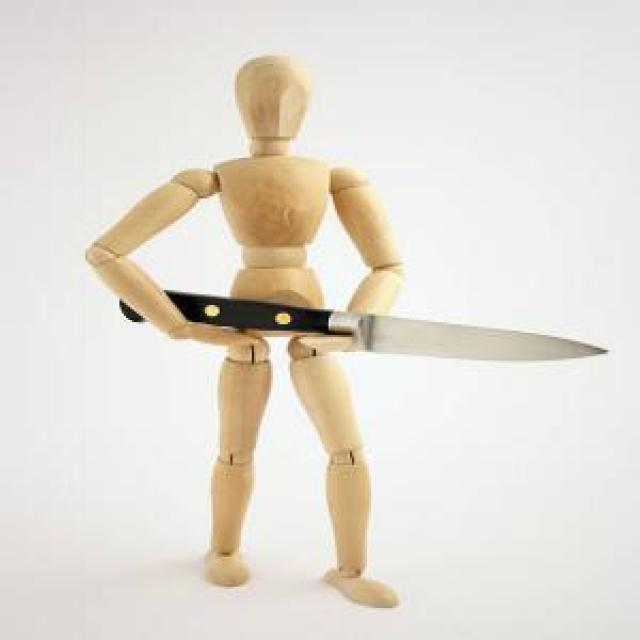knife: (115, 290, 609, 366)
